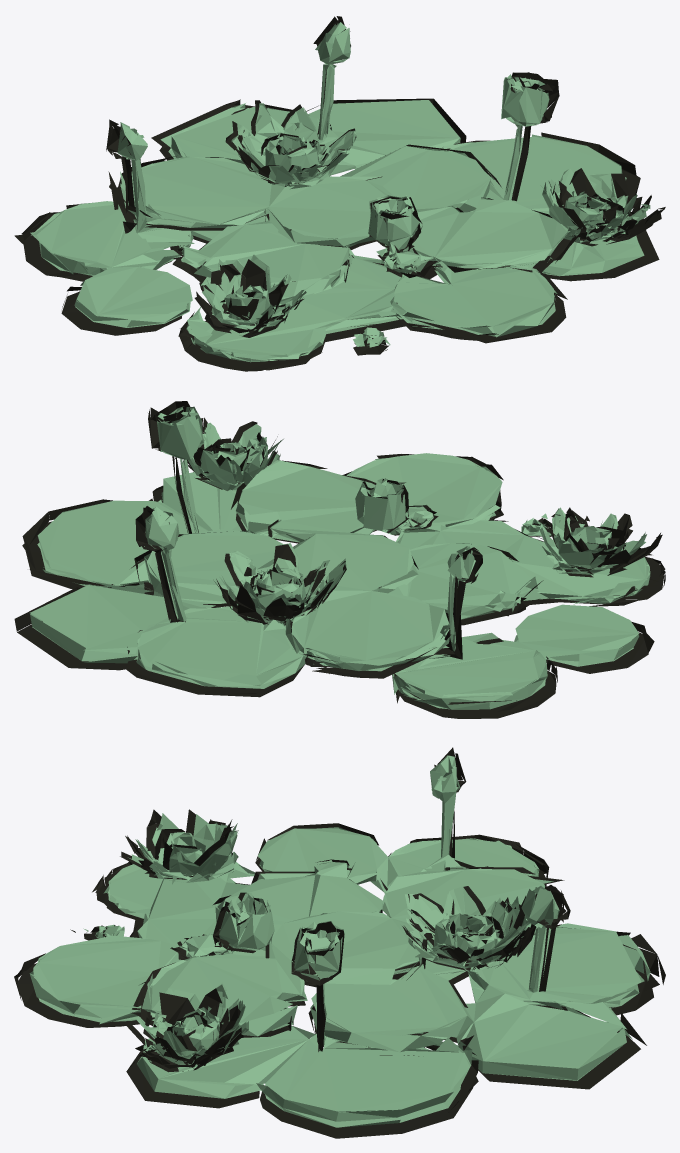
File: df_v2_water_edge_decor_e_a.glb
The picture shows the model from 3 angles, top to bottom: view 1: azimuth 30°, elevation 25°; view 2: azimuth 150°, elevation 25°; view 3: azimuth 270°, elevation 25°; orthographic projection. The views are drawn at different scales.
Visible parts, largest first — view 1: water_edge_decor_e_mesh_01, water_edge_decor_e_mesh_01_ink_outline; view 2: water_edge_decor_e_mesh_01, water_edge_decor_e_mesh_01_ink_outline; view 3: water_edge_decor_e_mesh_01, water_edge_decor_e_mesh_01_ink_outline.
Part boxes in pixels (left/top/right/bottom): water_edge_decor_e_mesh_01: left=30, top=22, right=650, bottom=362; water_edge_decor_e_mesh_01_ink_outline: left=14, top=16, right=665, bottom=371; water_edge_decor_e_mesh_01: left=30, top=406, right=650, bottom=709; water_edge_decor_e_mesh_01_ink_outline: left=14, top=401, right=665, bottom=718; water_edge_decor_e_mesh_01: left=29, top=755, right=650, bottom=1127; water_edge_decor_e_mesh_01_ink_outline: left=14, top=747, right=665, bottom=1138.
Bounding box in the file's own units: 0.6342 × 0.1506 × 0.5786.
